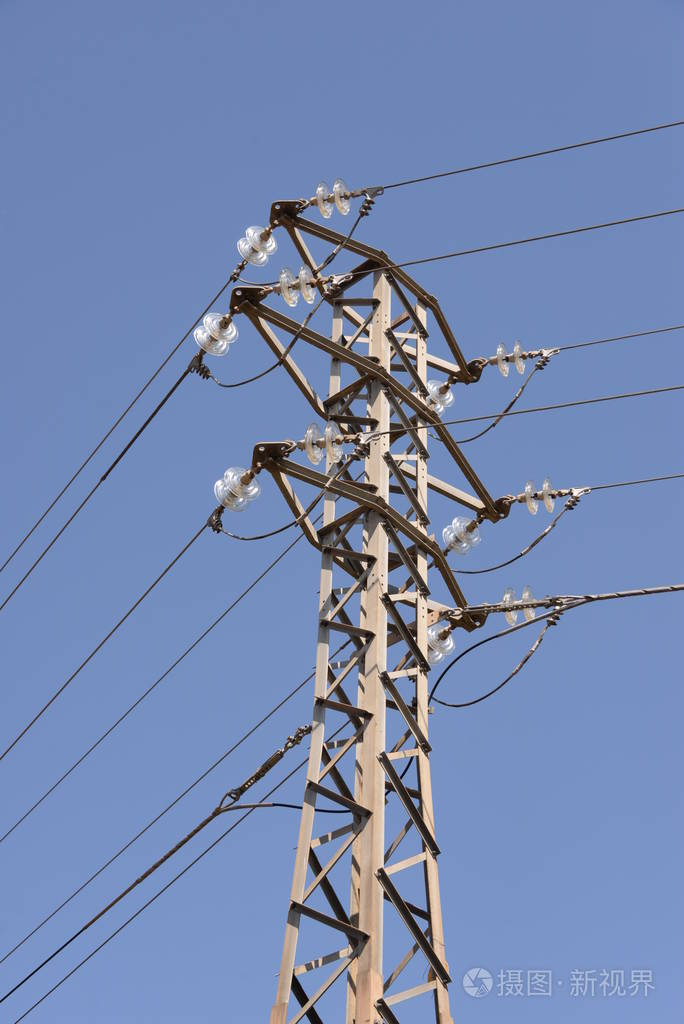insulator: (213, 463, 257, 512), (191, 311, 236, 355), (279, 261, 319, 307), (302, 418, 342, 464), (498, 582, 534, 630), (439, 518, 479, 558), (489, 339, 529, 379), (237, 223, 273, 263), (312, 180, 348, 220), (423, 375, 460, 411), (520, 479, 555, 513), (424, 622, 452, 664)
